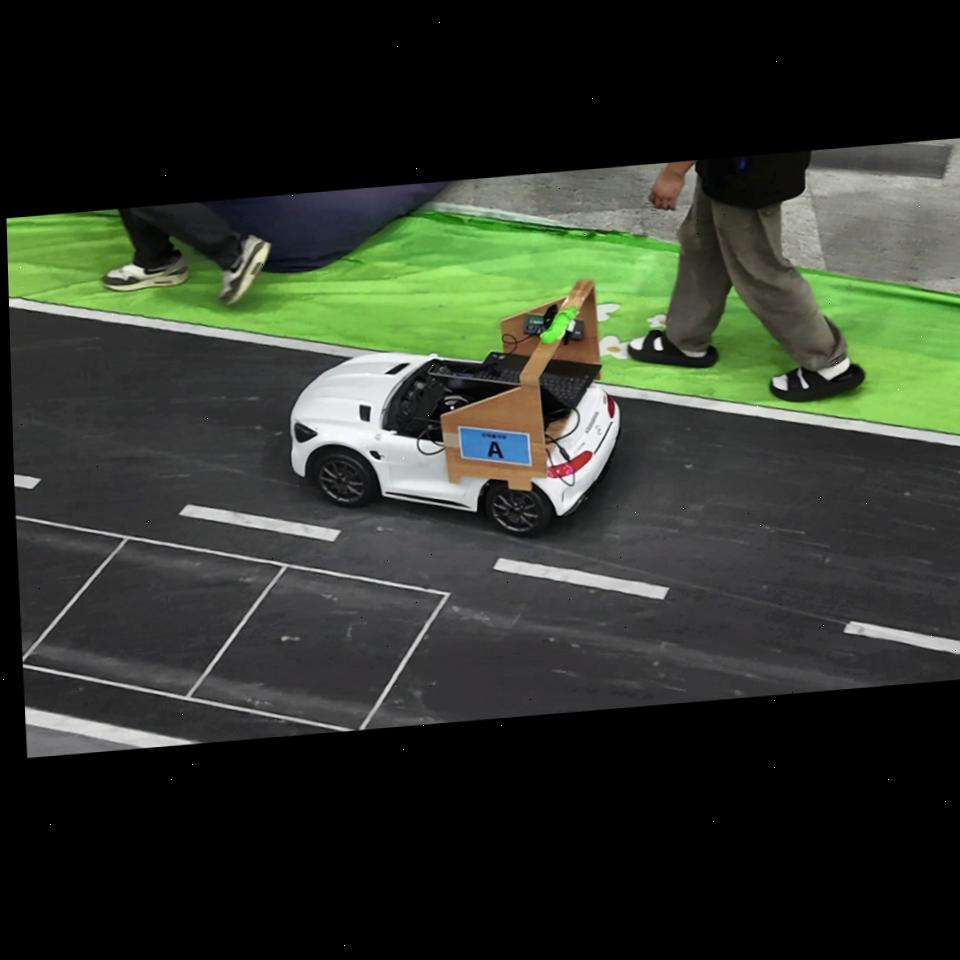broken_line: (494, 558, 669, 600), (180, 505, 341, 541), (844, 621, 960, 655), (14, 474, 43, 489)
